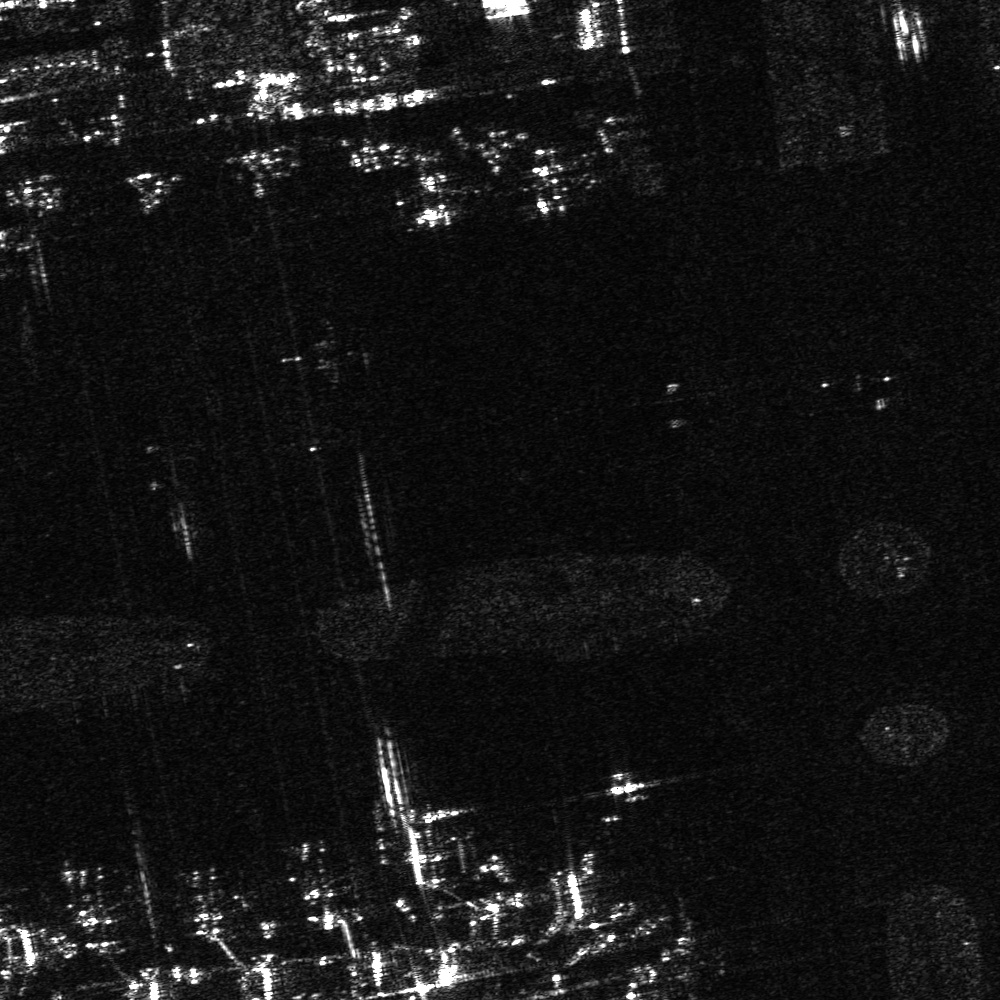A220: (56, 864, 138, 955), (172, 861, 253, 945), (281, 839, 351, 927)
Boeing737: (389, 165, 476, 223)
Boeing787: (505, 139, 596, 217)
